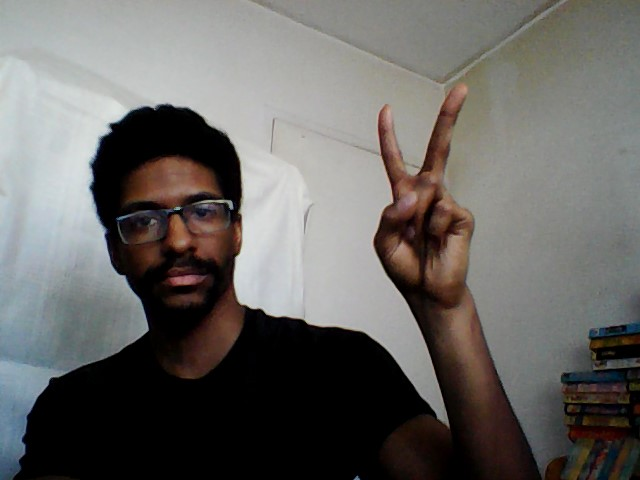v: (371, 78, 479, 295)
